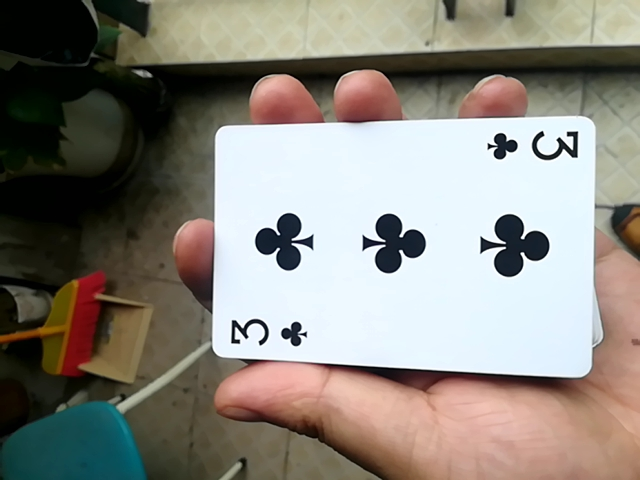mh 3: (189, 117, 603, 384)
